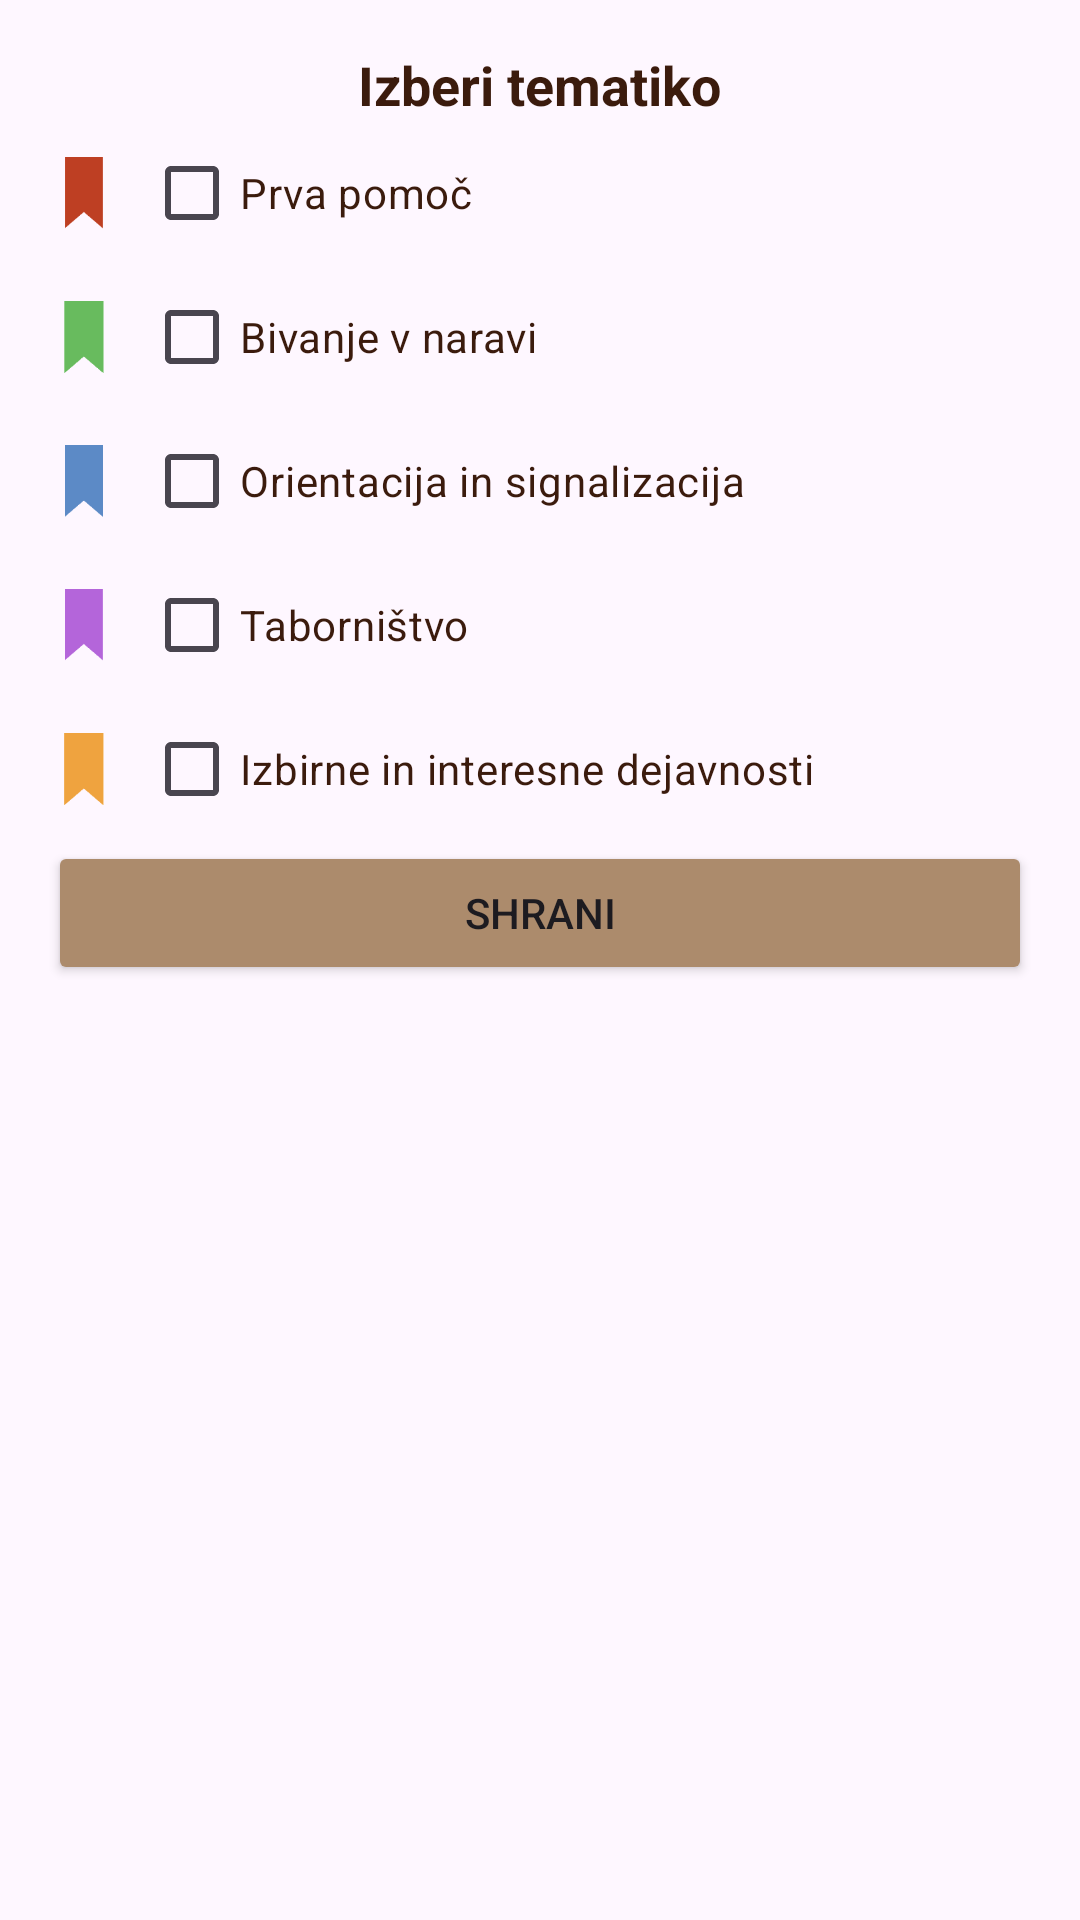

Icon bounding boxes for this 1080w x 1920h phone screenshot, format (x1, y1, x2, y2):
flag: (65, 157, 103, 228), (64, 301, 104, 373), (65, 445, 103, 517), (65, 589, 103, 660), (64, 733, 104, 805)
